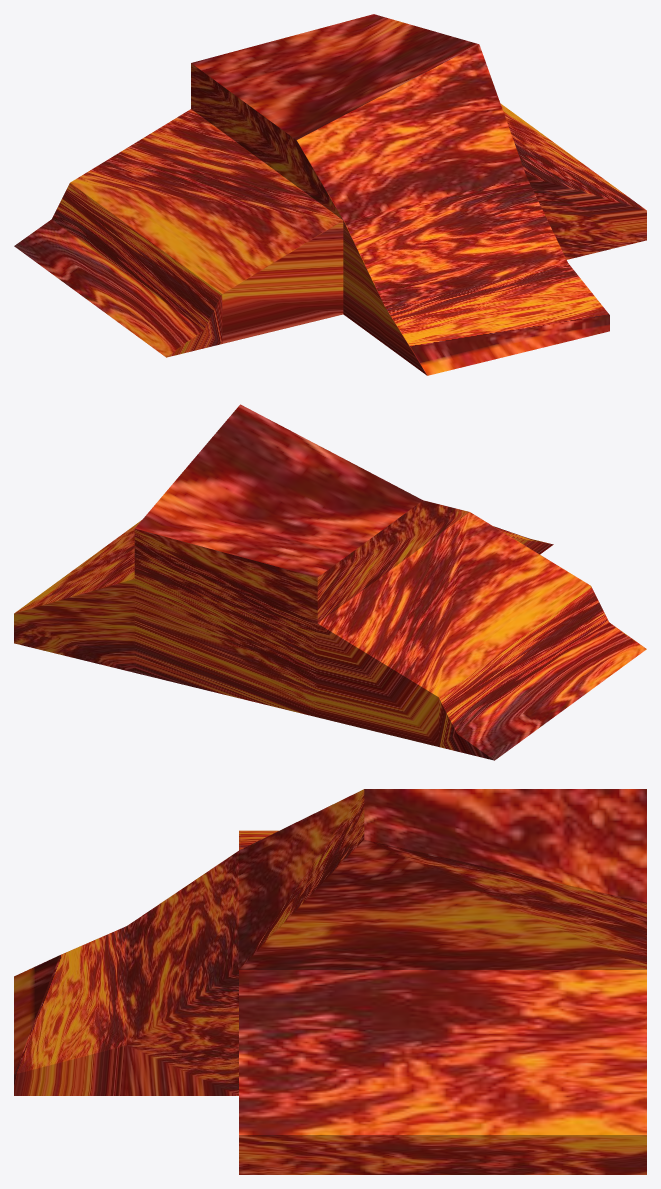
File: Lava.fbx
The picture shows the model from 3 angles, top to bottom: view 1: azimuth 30°, elevation 25°; view 2: azimuth 150°, elevation 25°; view 3: azimuth 270°, elevation 25°; orthographic projection. The views are drawn at different scales.
Parts seen in each view (by area): view 1: Lava; view 2: Lava; view 3: Lava.
Part boxes in pixels (<box>): Lava: <box>14,14,646,375</box>; Lava: <box>14,404,646,760</box>; Lava: <box>14,789,646,1174</box>.
Bounding box in the file's own units: 526 × 200 × 448.
